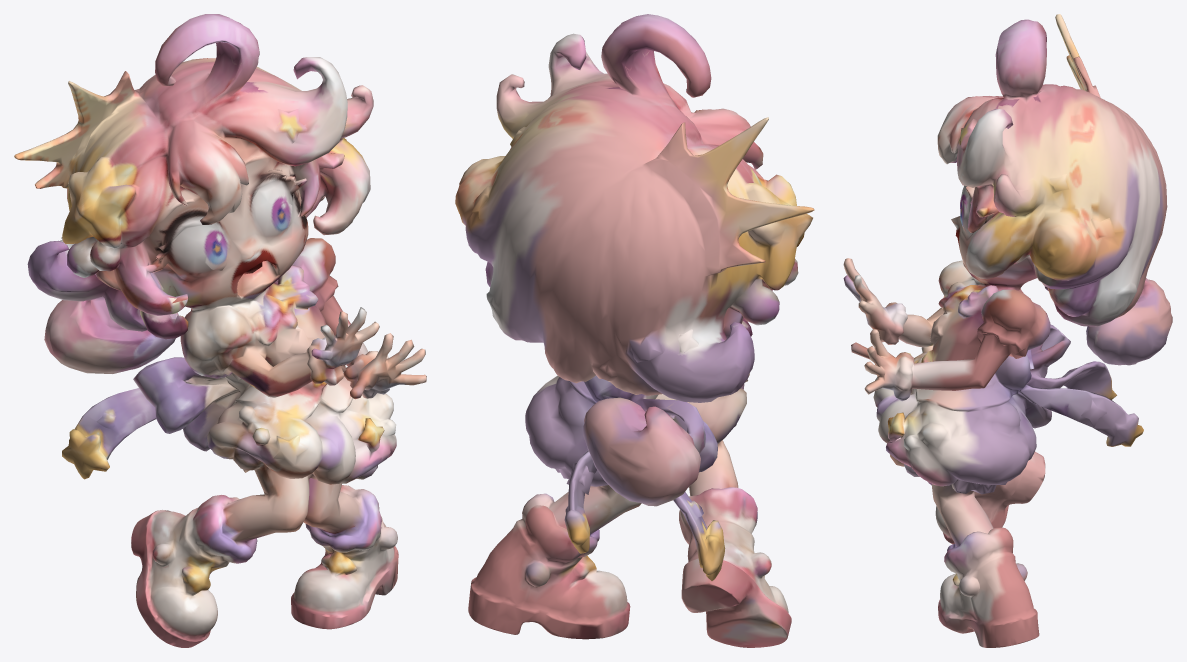
File: surprise_painted.glb
3 views of the same model, side by side, from view 1: azimuth 30°, elevation 25°; view 2: azimuth 150°, elevation 25°; view 3: azimuth 270°, elevation 25° (orthographic). The views are drawn at different scales.
Visible parts, largest first — view 1: Body; view 2: Body; view 3: Body.
Part boxes in pixels (x1=…): Body: x1=14, y1=14, x2=426, y2=647; Body: x1=455, y1=14, x2=814, y2=647; Body: x1=843, y1=14, x2=1172, y2=647.
Size of the model in its own units: 0.6053 by 0.9981 by 0.5392.
Materials: 1 (1 with a texture image).
